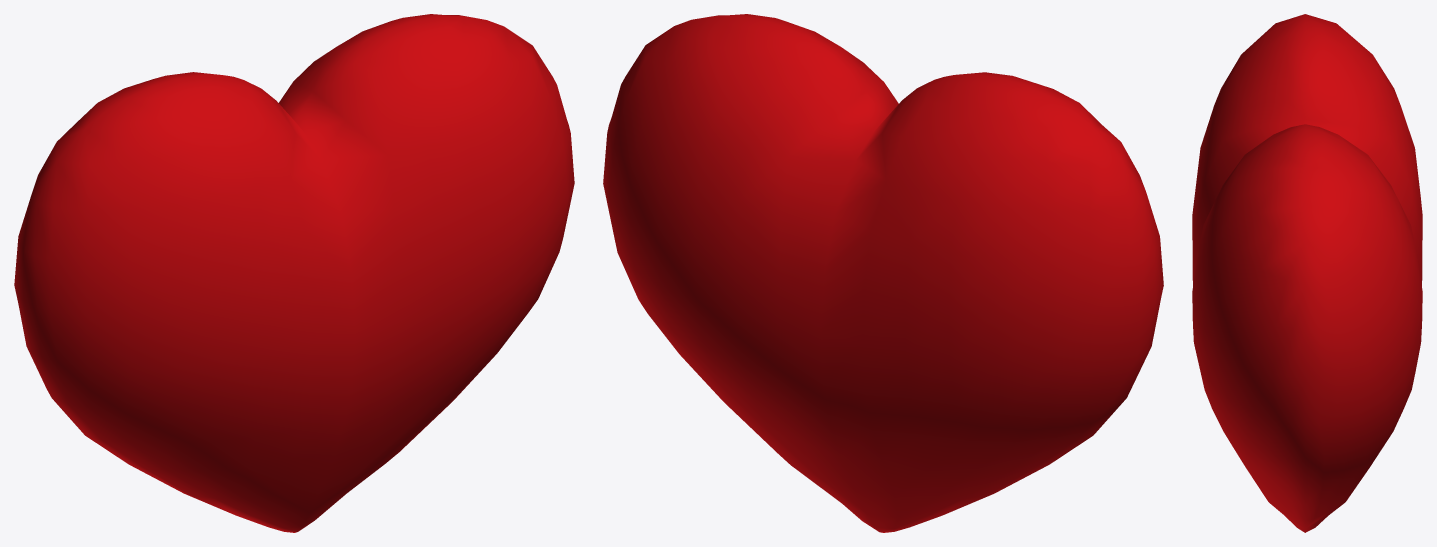
File: heart.obj
3 renders of one model, left to right at view 1: azimuth 30°, elevation 25°; view 2: azimuth 150°, elevation 25°; view 3: azimuth 270°, elevation 25°, orthographic. The views are drawn at different scales.
Visible parts, largest first — view 1: heart_low__MI_heart.002; view 2: heart_low__MI_heart.002; view 3: heart_low__MI_heart.002.
Part boxes in pixels (left/top/right/bottom): heart_low__MI_heart.002: left=14, top=14, right=574, bottom=532; heart_low__MI_heart.002: left=603, top=14, right=1163, bottom=532; heart_low__MI_heart.002: left=1192, top=14, right=1422, bottom=532.
Bounding box in the file's own units: 14.76 × 12.53 × 5.86.
Materials: 1 (1 with a texture image).
